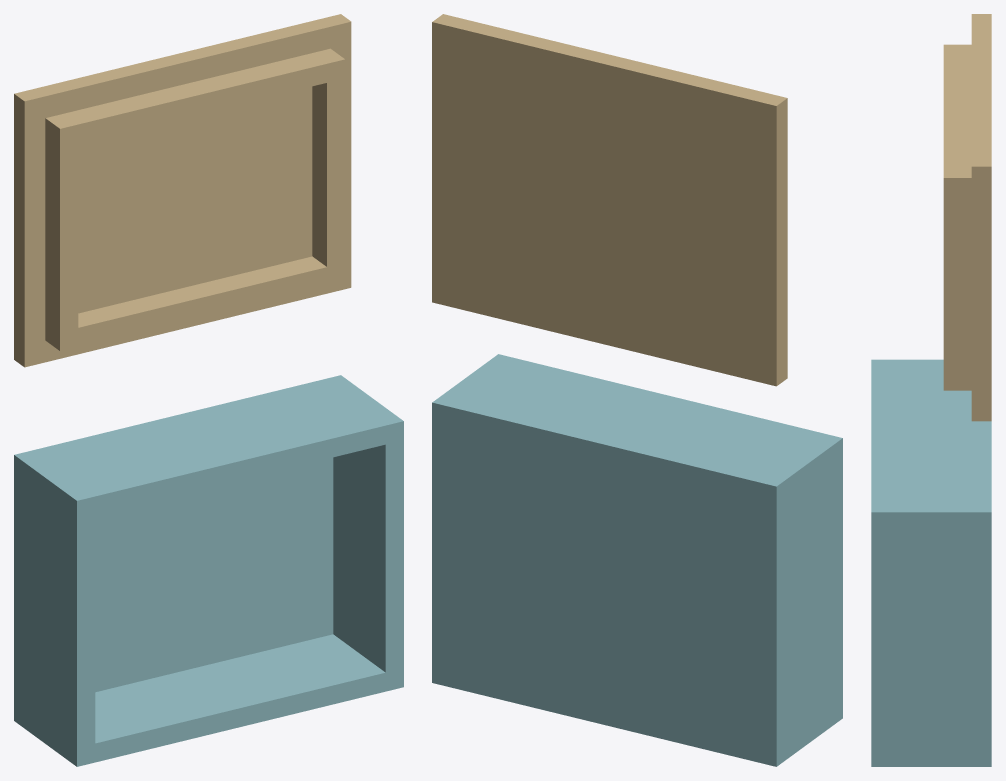
File: assembly.glb
The picture shows the model from 3 angles, left to right: view 1: azimuth 30°, elevation 25°; view 2: azimuth 150°, elevation 25°; view 3: azimuth 270°, elevation 25°; orthographic projection. The views are drawn at different scales.
Visible parts, largest first — view 1: shell, lid; view 2: shell, lid; view 3: shell, lid.
Part boxes in pixels (x1=…): shell: x1=14, y1=375, x2=403, y2=766; lid: x1=14, y1=14, x2=351, y2=367; shell: x1=432, y1=354, x2=842, y2=766; lid: x1=432, y1=14, x2=787, y2=386; shell: x1=871, y1=359, x2=991, y2=766; lid: x1=943, y1=14, x2=991, y2=421.
Bounding box in the file's own units: 0.036 × 0.066 × 0.012.
